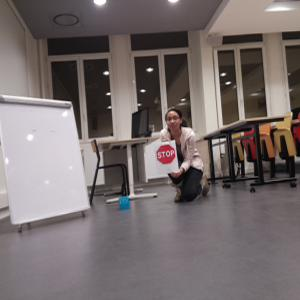big: (1, 95, 92, 225)
small: (119, 196, 132, 210)
